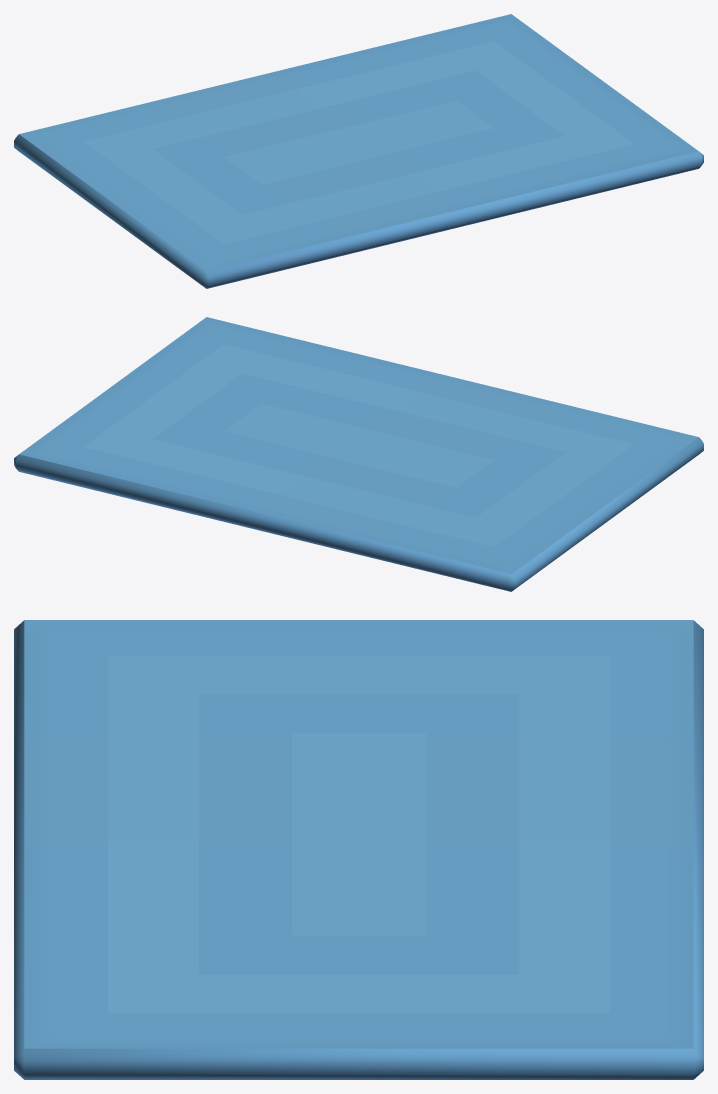
The model's file is rug_rectangle_stripes_B.glb.
The picture shows the model from 3 angles, top to bottom: view 1: azimuth 30°, elevation 25°; view 2: azimuth 150°, elevation 25°; view 3: azimuth 270°, elevation 25°; orthographic projection. The views are drawn at different scales.
Parts seen in each view (by area): view 1: rug_rectangle_stripes_B; view 2: rug_rectangle_stripes_B; view 3: rug_rectangle_stripes_B.
Boxes of the visible parts, x1,y1,x2,y2 form: rug_rectangle_stripes_B: (14,14,703,288); rug_rectangle_stripes_B: (14,317,703,591); rug_rectangle_stripes_B: (14,620,703,1079).
Bounding box in the file's own units: 3 × 0.1 × 2.
1 material, 1 textured.
